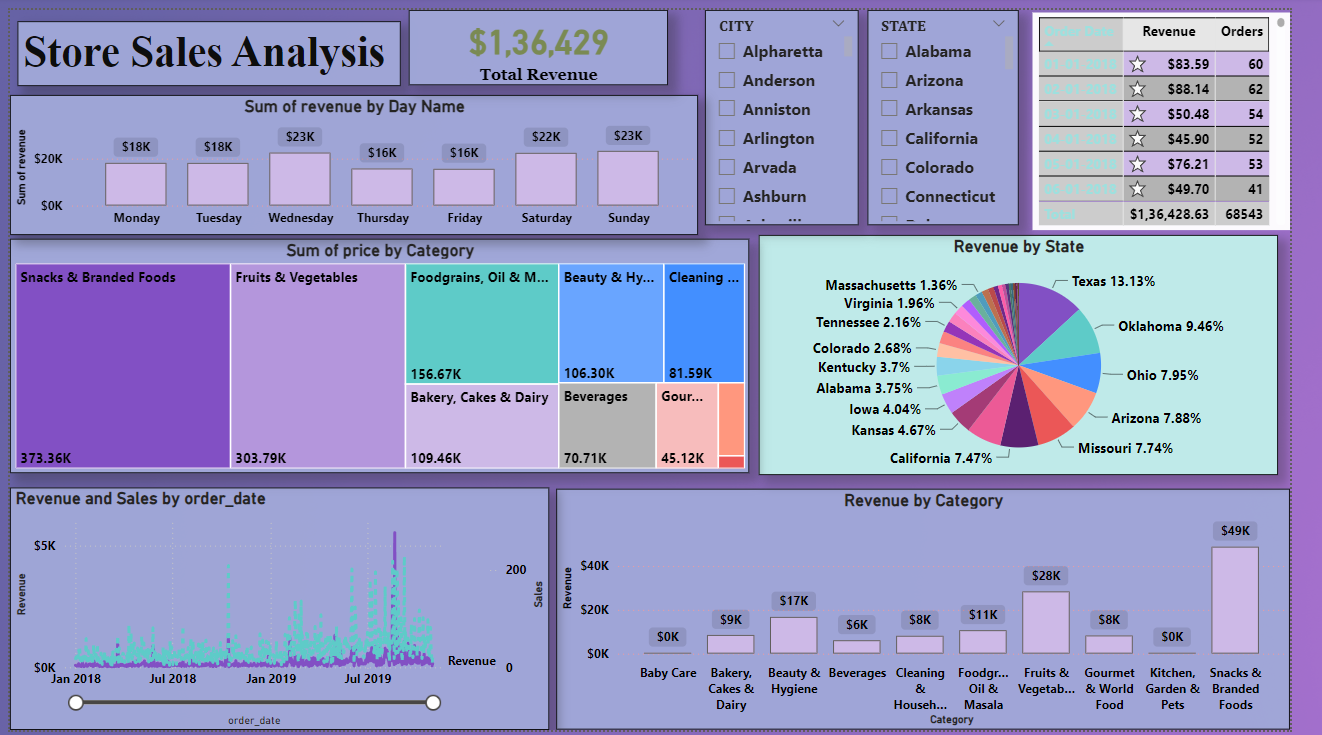

The page's visual inventory and layout, read from the dashboard file:
{"tool":"powerbi","page":{"name":"Dashboard","canvas":[1280,720],"ordinal":0},"visuals":[{"type":"clusteredColumnChart","title":"Revenue by Category","fields":{"Category":["Product_Hierarchy.Category","Product_Hierarchy.Sub_category"],"Y":["Sum(sales.revenue)"]},"box":[528.7,496.3,745.1,223.9],"z":0},{"type":"pieChart","title":"Revenue by State","fields":{"Category":["Stores.state"],"Y":["Sum(sales.revenue)"]},"box":[751.8,204.3,527.9,292.5],"z":1000},{"type":"lineChart","fields":{"Y":["Sum(sales.revenue)"],"Category":["sales.order_date.Variation.Date Hierarchy.Year"],"Y2":["Sum(sales.sales)"]},"box":[0,496.3,528.7,223.9],"z":2000},{"type":"treemap","fields":{"Group":["Product_Hierarchy.Category"],"Values":["Sum(sales.price)"]},"box":[0,256.8,744.5,239.5],"z":4000},{"type":"slicer","fields":{"Values":["Stores.city"]},"box":[751.8,9.8,134,183],"z":5000},{"type":"slicer","fields":{"Values":["Stores.state"]},"box":[900.5,9.8,122.6,183],"z":6000},{"type":"columnChart","fields":{"Category":["Date Dimmension.Day Name"],"Y":["Sum(sales.revenue)"]},"box":[0,109.6,744.5,147.2],"z":7000},{"type":"card","fields":{"Values":["Sum(sales.revenue)"]},"box":[459.3,0,286,101.3],"z":8000},{"type":"tableEx","fields":{"Values":["sales.order_date","Sum(sales.revenue)","Count(sales.order_id)"]},"box":[1034.5,9.8,245.2,184.7],"z":9000},{"type":"textbox","box":[11.4,16.3,436.4,70.3],"z":10000}]}

Visuals, with their boxes in screenshot pixels (x1, y1, x2, y2), scaled from the page's 1280x720 canvas onto the 1322x735 screenshot:
"Revenue by Category" clusteredColumnChart: crop(546, 507, 1316, 734)
"Revenue by State" pieChart: crop(776, 209, 1321, 507)
lineChart - Sum(sales.revenue) x sales.order_date.Variation.Date Hierarchy.Year: crop(0, 507, 546, 734)
treemap - Product_Hierarchy.Category x Sum(sales.price): crop(0, 262, 769, 507)
slicer - Stores.city: crop(776, 10, 915, 197)
slicer - Stores.state: crop(930, 10, 1057, 197)
columnChart - Date Dimmension.Day Name x Sum(sales.revenue): crop(0, 112, 769, 262)
card - Sum(sales.revenue): crop(474, 0, 770, 103)
tableEx - sales.order_date x Sum(sales.revenue): crop(1068, 10, 1321, 199)
textbox: crop(12, 17, 462, 88)
